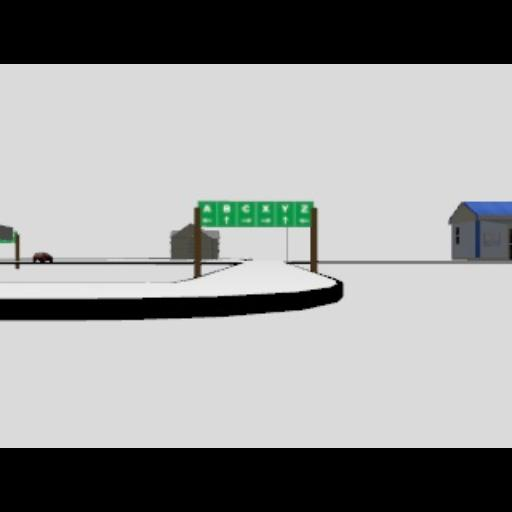A: (202, 205, 212, 213)
B: (223, 204, 231, 214)
C: (241, 204, 251, 214)
Left: (202, 218, 214, 224), (298, 218, 310, 224)
Right: (240, 218, 252, 224), (262, 218, 272, 224)
Straight: (223, 215, 229, 225), (283, 215, 289, 225)
X: (262, 204, 272, 214)
Y: (281, 204, 289, 212)
Z: (300, 205, 310, 213)
